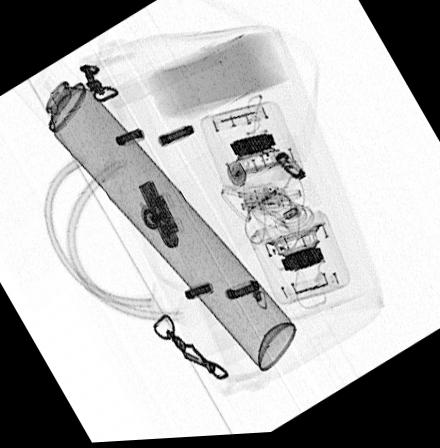Sprayer: (12, 59, 297, 373)
